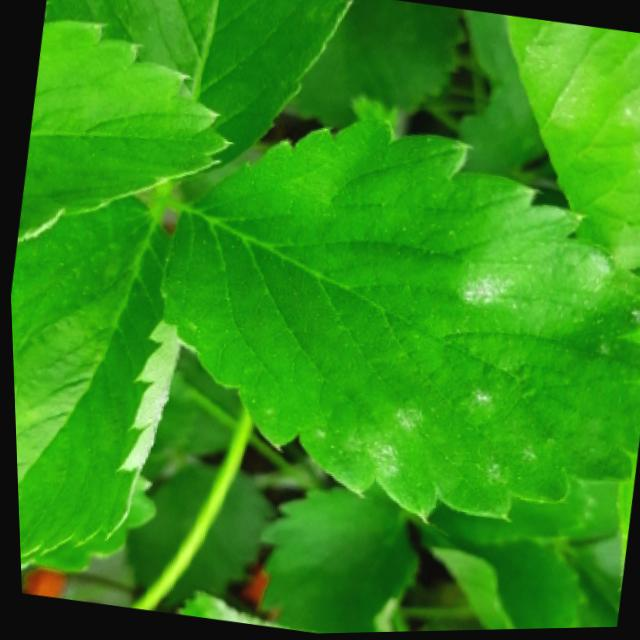Powdery Mildew Leaf: (159, 114, 640, 526), (9, 191, 176, 560), (505, 16, 640, 275)
